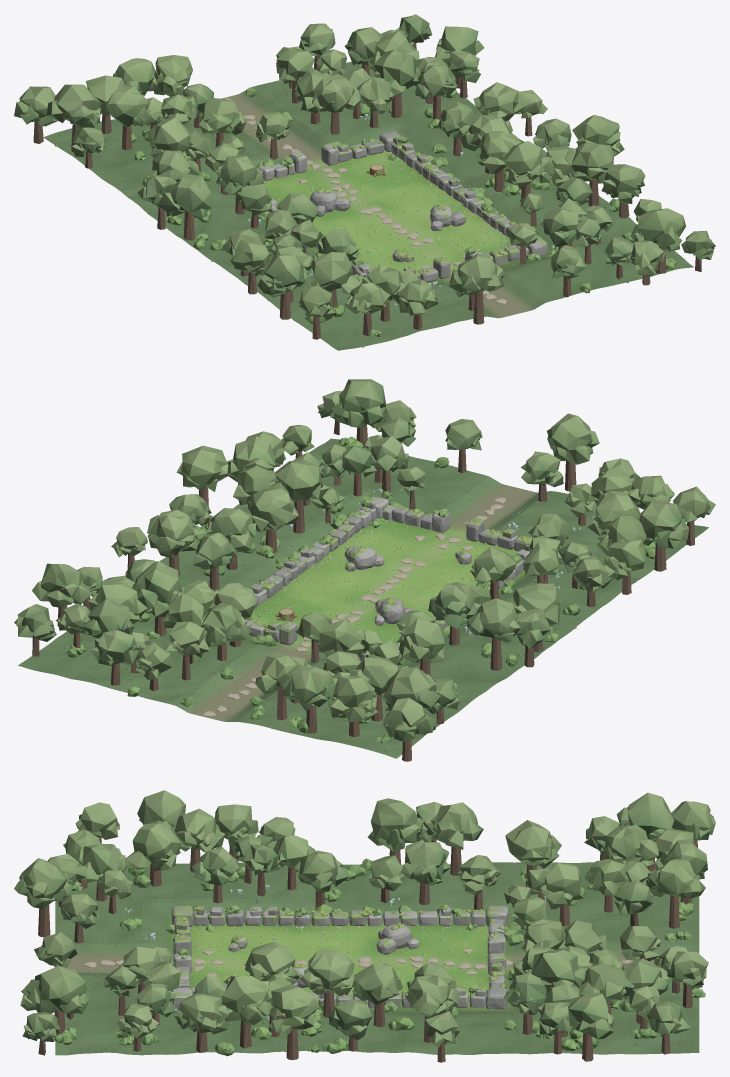
The model's file is mossy_glade_boulders_roblox.glb.
The picture shows the model from 3 angles, top to bottom: view 1: azimuth 30°, elevation 25°; view 2: azimuth 150°, elevation 25°; view 3: azimuth 270°, elevation 25°; orthographic projection. The views are drawn at different scales.
Visible parts, largest first — view 1: Trees, Ground, Walls, Bushes, Grass; view 2: Trees, Ground, Walls, Bushes, Grass; view 3: Trees, Ground, Walls, Bushes, Grass.
Boxes of the visible parts, box(x1,y1,x2,y2) form: Trees: box(14, 14, 715, 339); Ground: box(43, 61, 693, 350); Walls: box(246, 131, 547, 282); Bushes: box(84, 87, 676, 337); Grass: box(55, 85, 628, 347); Trees: box(14, 379, 715, 761); Ground: box(18, 438, 708, 758); Walls: box(245, 496, 532, 665); Bushes: box(67, 436, 655, 742); Grass: box(58, 473, 655, 751); Trees: box(14, 790, 715, 1062); Ground: box(55, 862, 699, 1055); Walls: box(171, 904, 508, 1009); Bushes: box(54, 858, 705, 1056); Grass: box(86, 864, 689, 1052).
Size of the model in its own units: 35.39 by 6.13 by 46.87.
